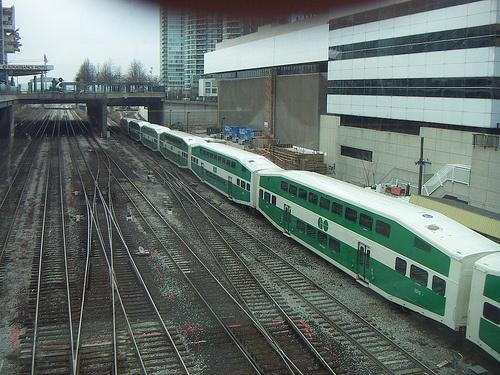train: (119, 117, 500, 364)
